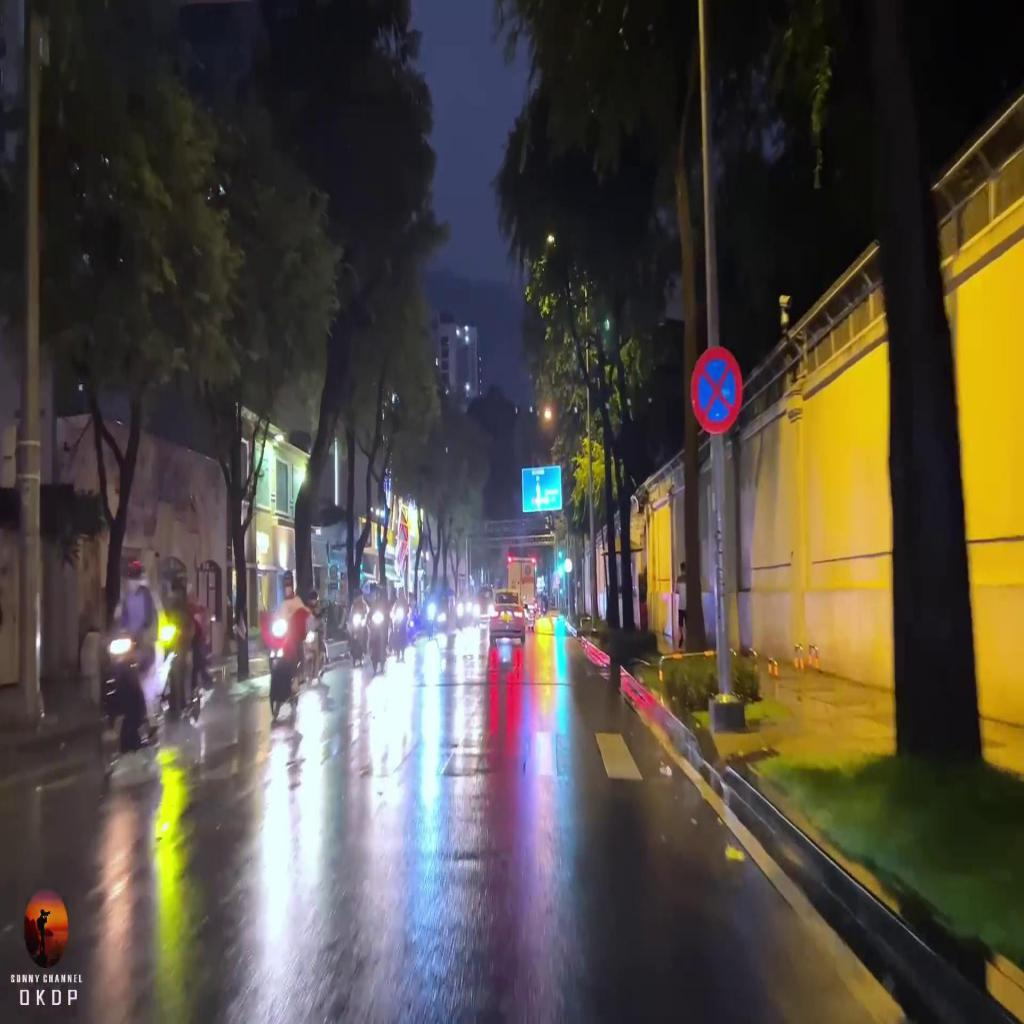cam_dung_xe_va_do_xe: (690, 345, 743, 436)
khac: (522, 465, 562, 512)
